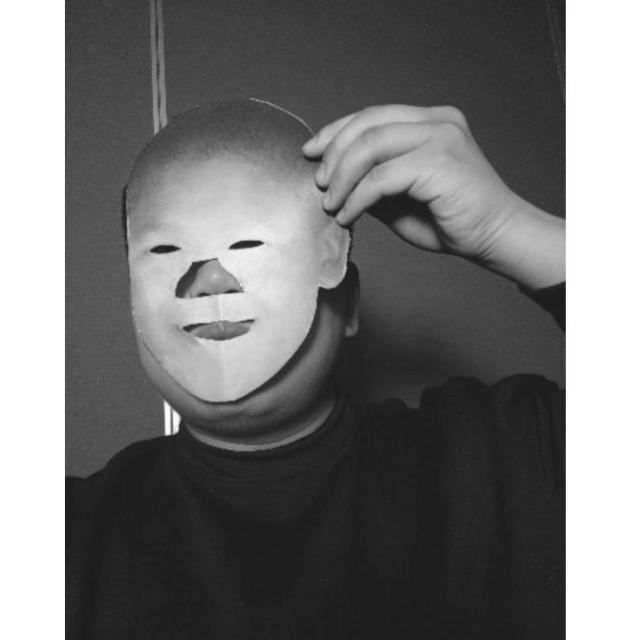fake: (117, 92, 358, 408)
